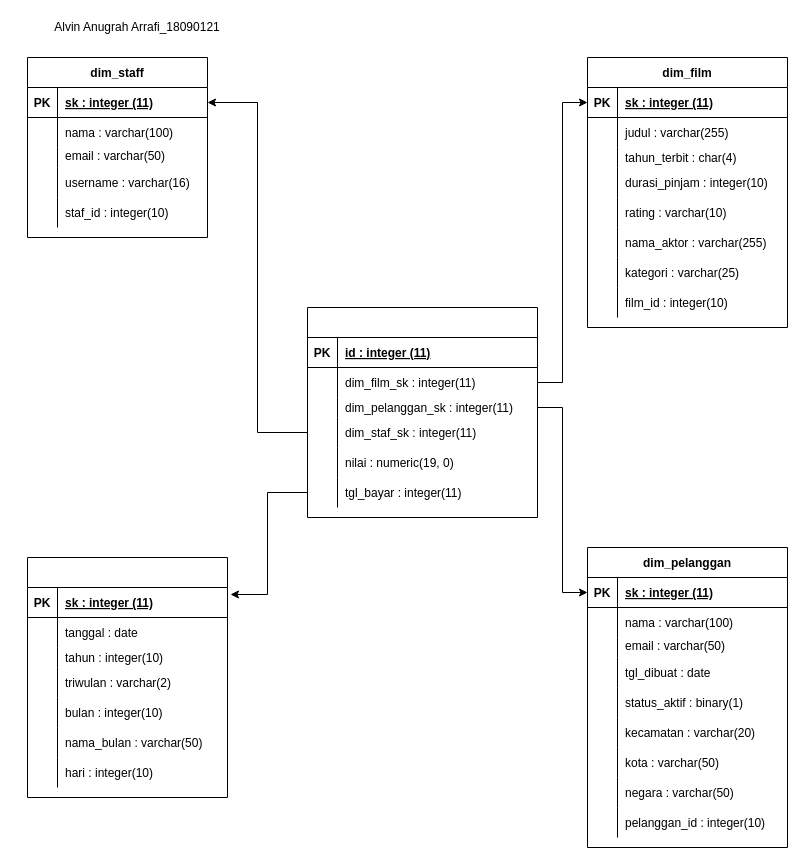
Some shapes in this 805 by 865 pixel diagram are drawn without their labels. The shapes that lost their labels are listed below. From the top down, each one's box as (x1, y1, x2, y2) in pixels, then its label:
(306, 306, 538, 518): Fact Order
(26, 556, 228, 798): dim_tanggal
